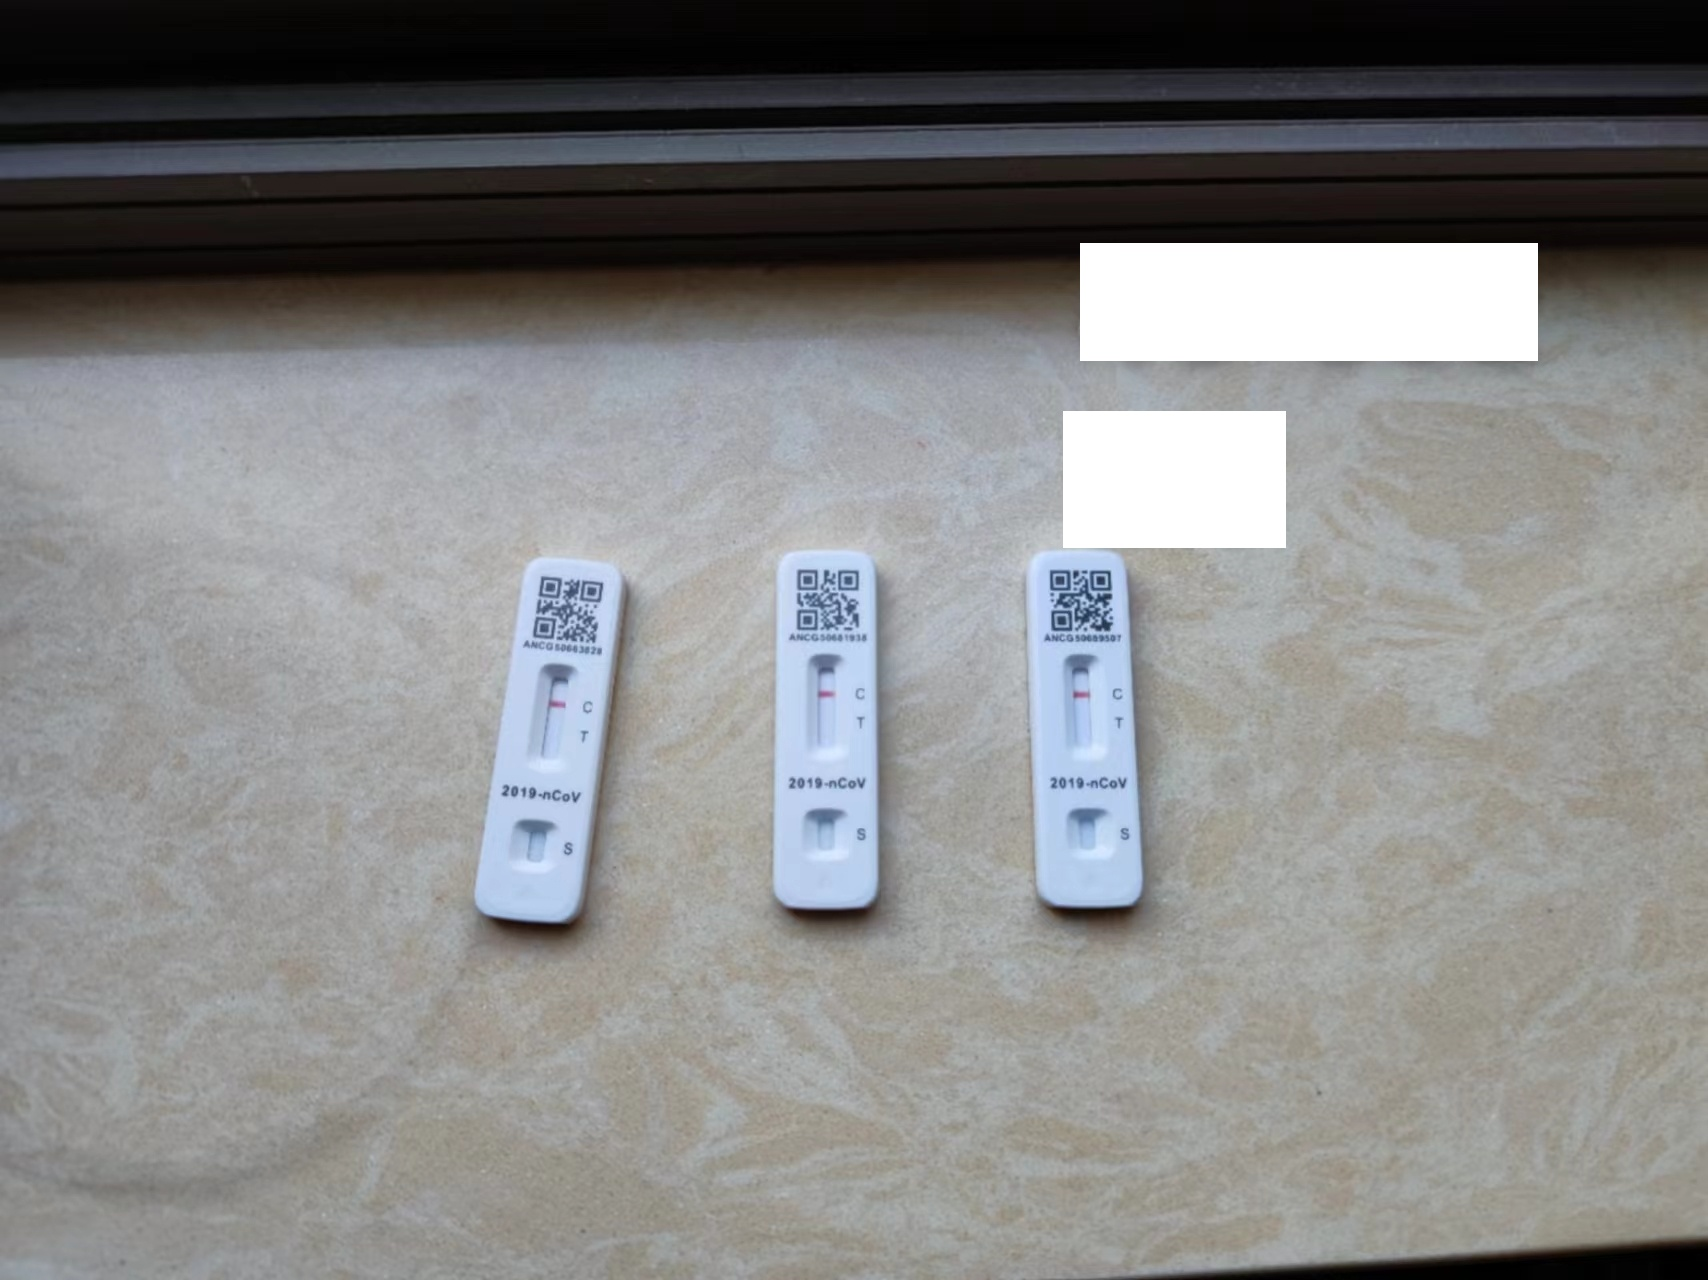negative: (1066, 657, 1105, 758), (811, 660, 847, 760), (541, 670, 566, 762)
